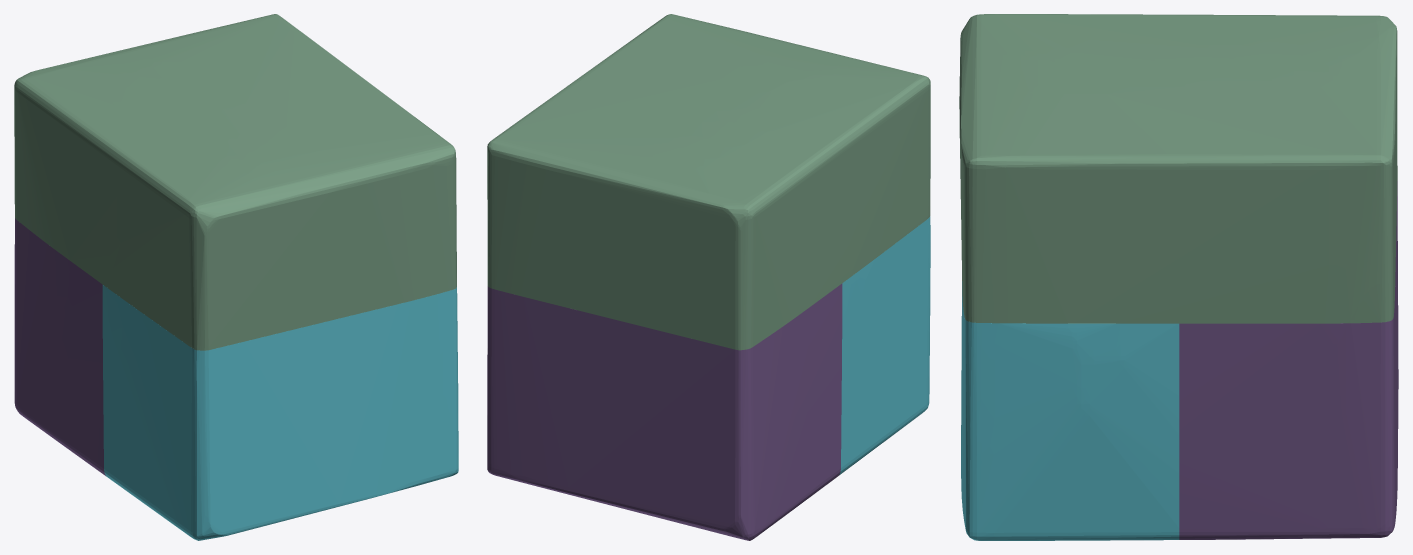
Rendered from coacd_collision.obj.
The picture shows the model from 3 angles, left to right: view 1: azimuth 30°, elevation 25°; view 2: azimuth 150°, elevation 25°; view 3: azimuth 270°, elevation 25°; orthographic projection. The views are drawn at different scales.
Parts seen in each view (by area): view 1: geometry_0, geometry_2, geometry_1; view 2: geometry_0, geometry_1, geometry_2; view 3: geometry_0, geometry_1, geometry_2.
Boxes of the visible parts, x1,y1,x2,y2 form: geometry_0: (14, 14, 456, 350); geometry_2: (102, 285, 458, 540); geometry_1: (14, 218, 105, 475); geometry_0: (487, 14, 930, 350); geometry_1: (487, 283, 842, 540); geometry_2: (839, 216, 930, 475); geometry_0: (959, 14, 1397, 323); geometry_1: (1179, 181, 1398, 539); geometry_2: (961, 281, 1179, 540).
Bounding box in the file's own units: 77.73 × 93.54 × 95.2.
